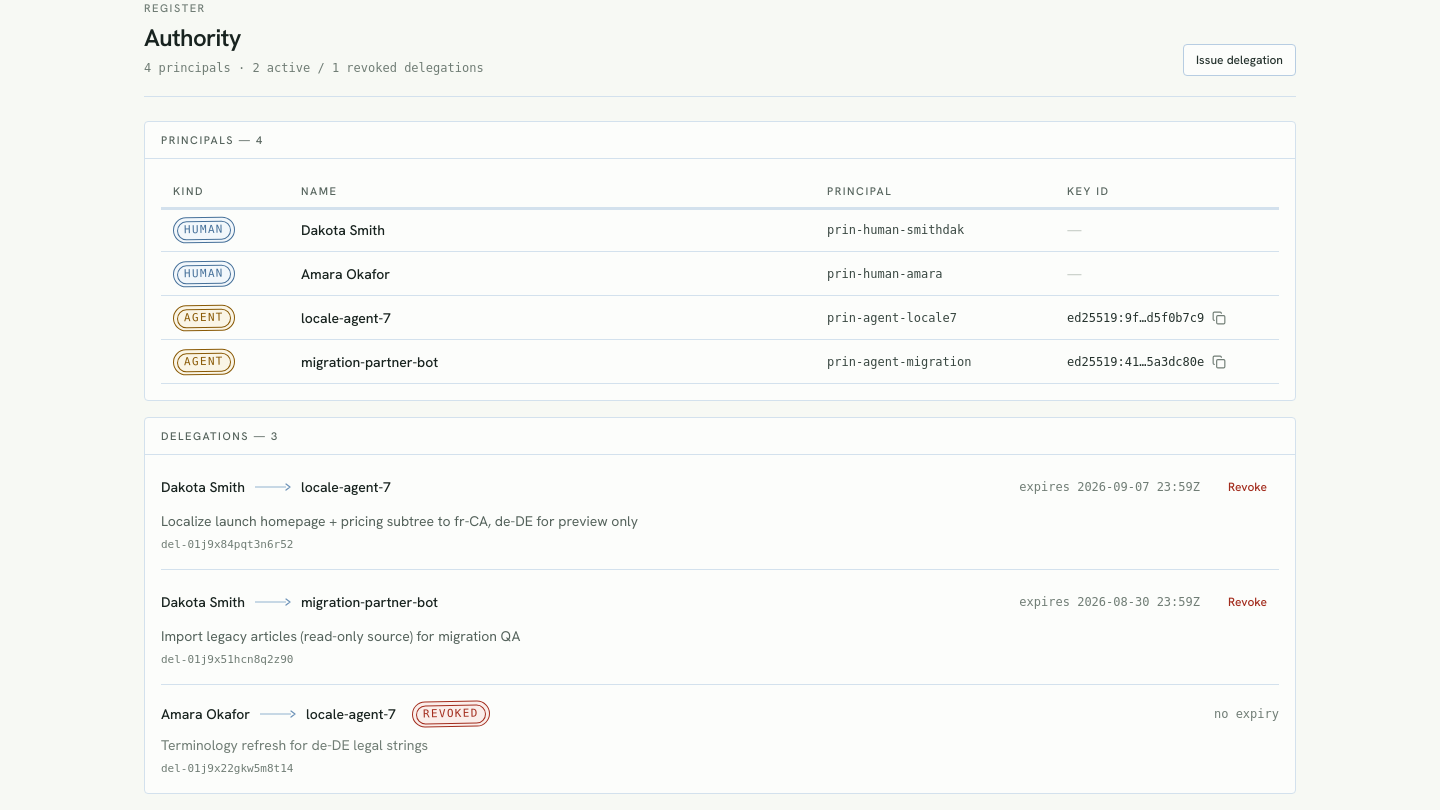
Scenario: AuthorityPage › issues a stub delegation through the dialog and confirms by toast
Click the button "Issue delegation".
click(1240, 60)  # box [1183,44,1296,76]
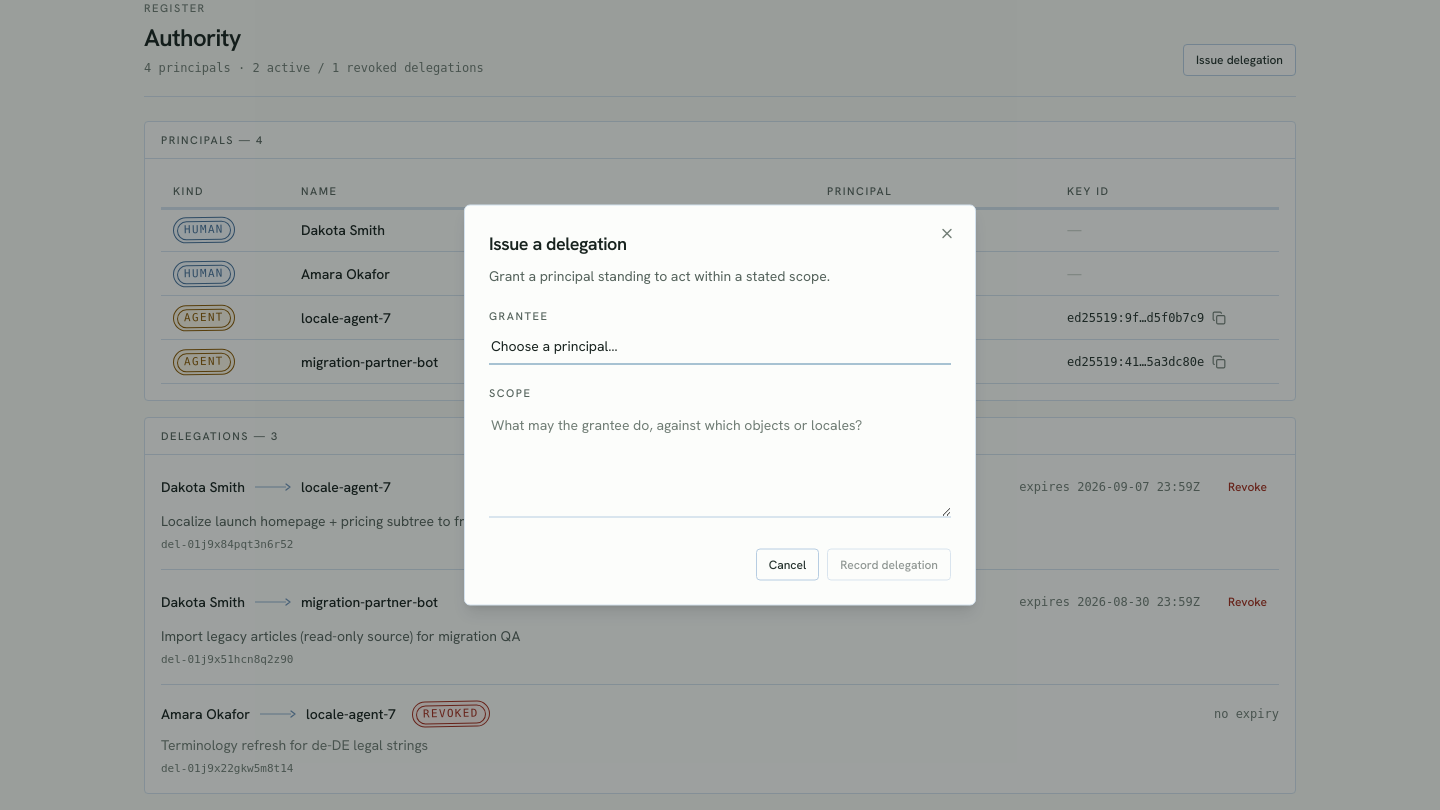
Select "migration-partner-bot · agent" in the dropdown labelled "Grantee" at x=720, y=346, box [489,328,951,364]
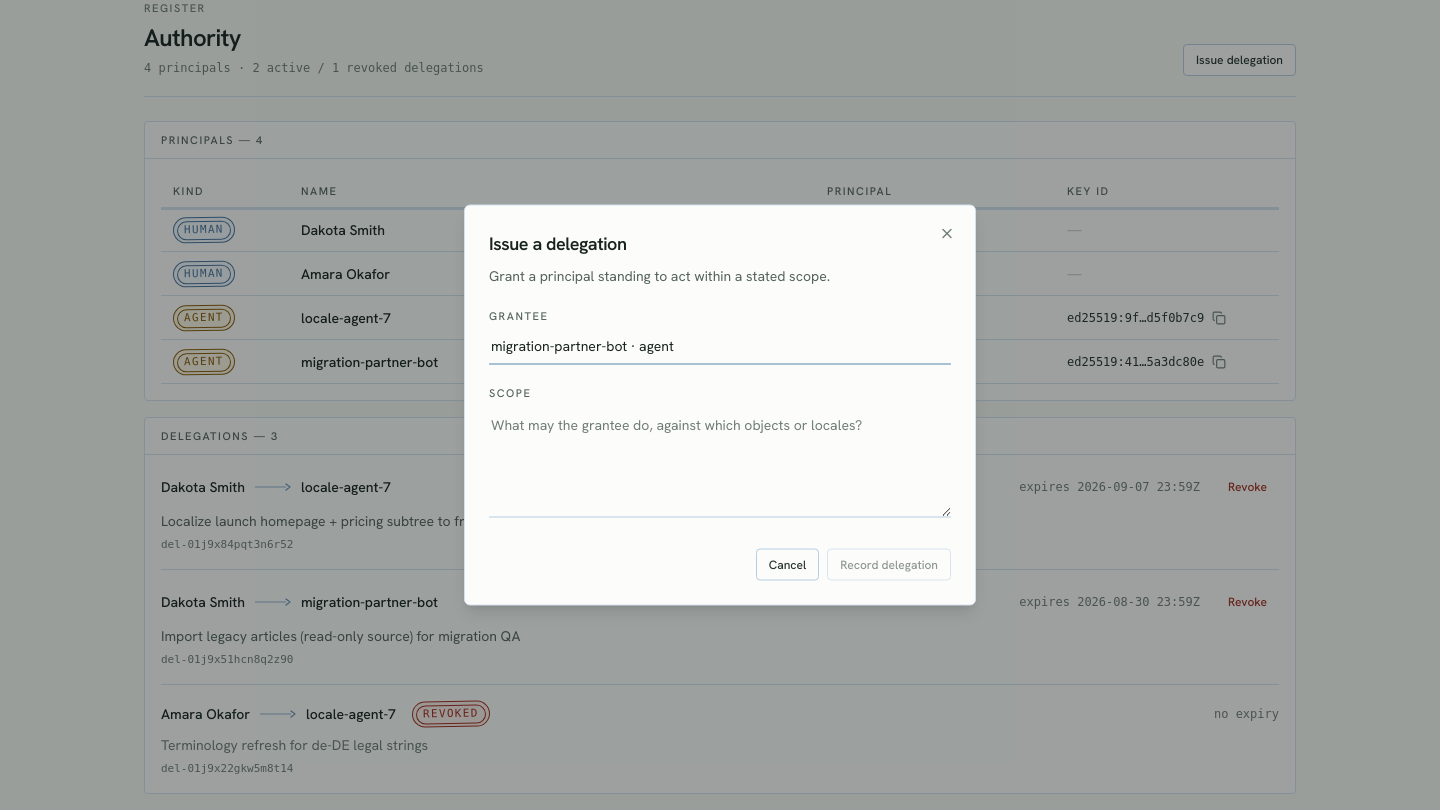
Type "Read-only audit of released objects" into the text box labelled "Scope".
click(720, 461); type("Read-only audit of released objects")  # box [489,404,951,518]
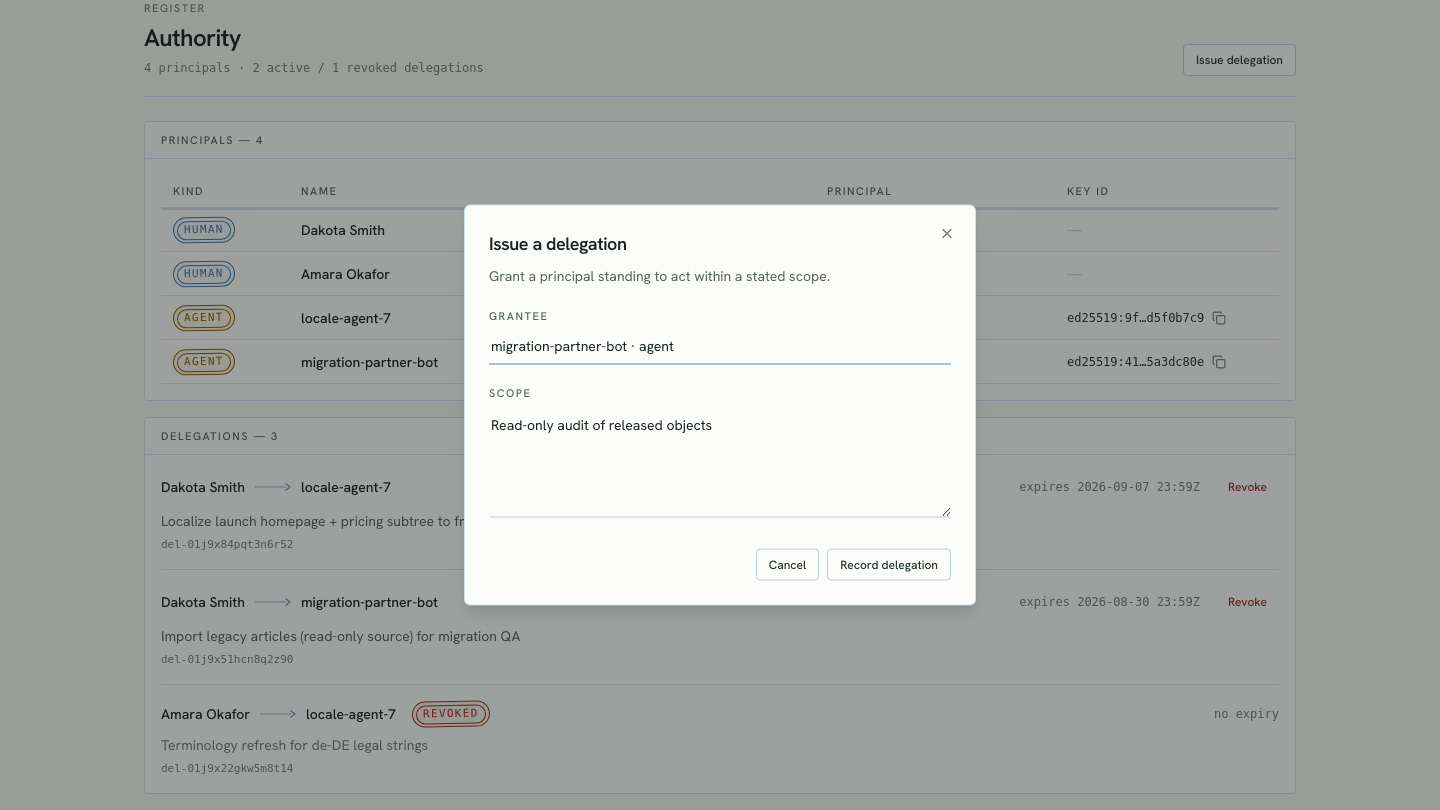
Click the button "Record delegation".
click(889, 564)  # box [827,548,951,580]
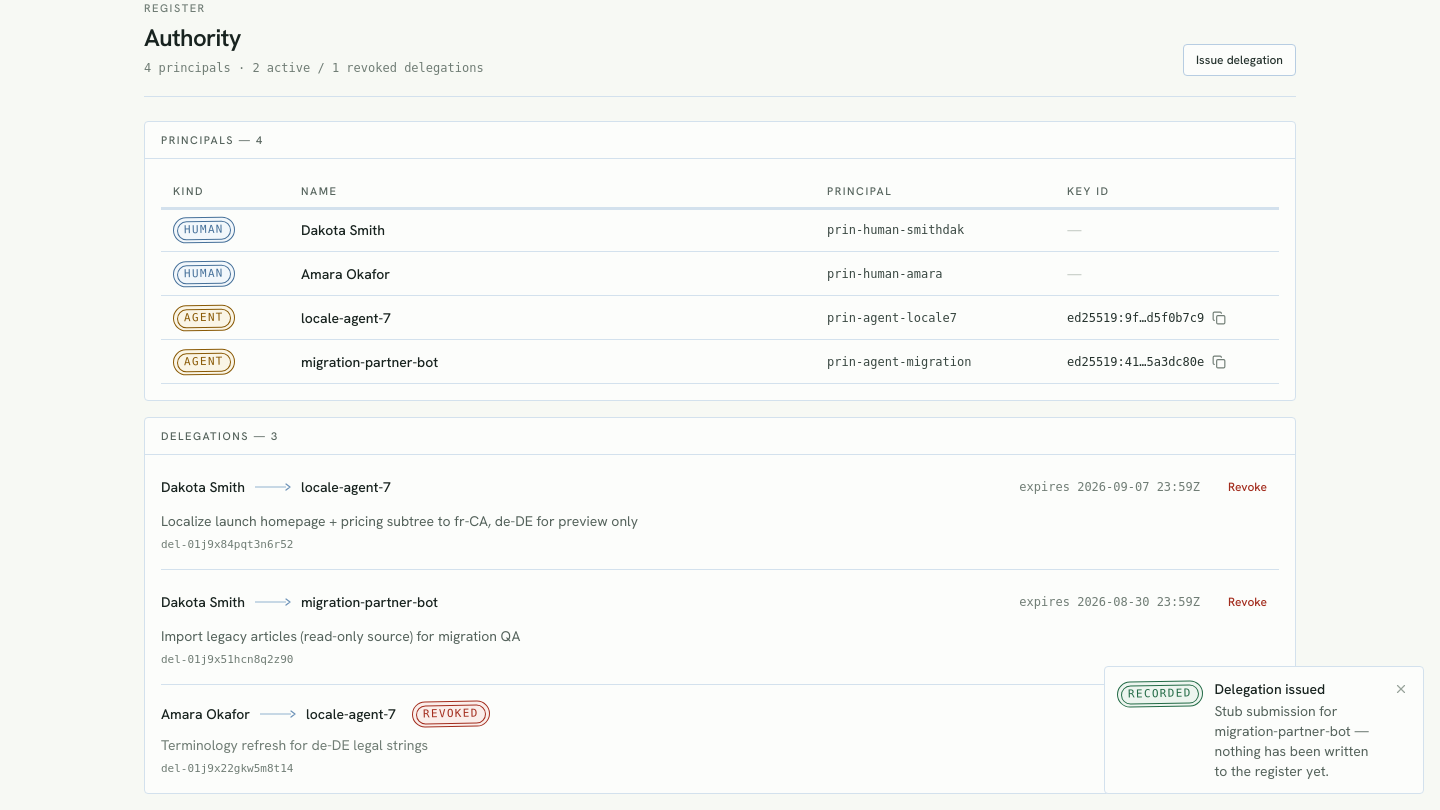
Check: the text "Delegation issued" is shown, box [1214,680,1325,698]
Check: the heading "Issue a delegation" is gone
